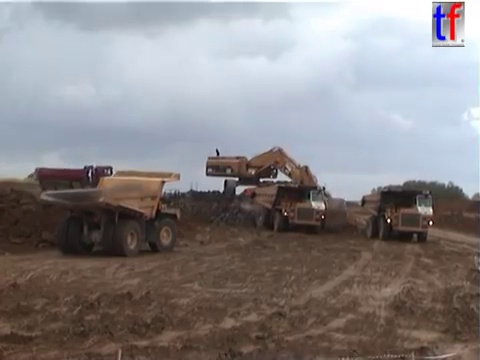excavator: (203, 145, 348, 232), (239, 184, 316, 211)
truck: (38, 168, 182, 258), (357, 187, 436, 244), (250, 182, 327, 233), (32, 164, 115, 192)
